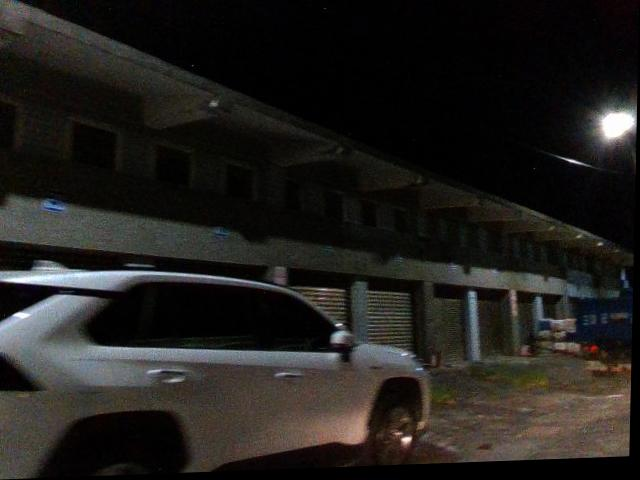pollute: (516, 317, 587, 368)
